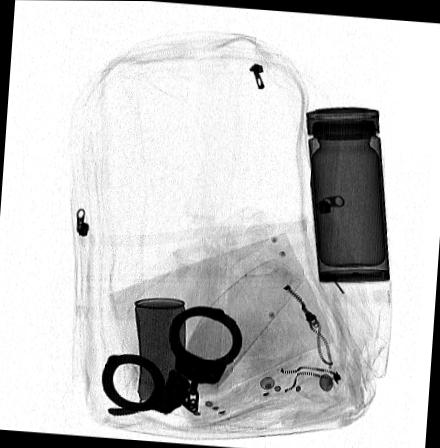HandCuffs: (102, 304, 243, 416)
